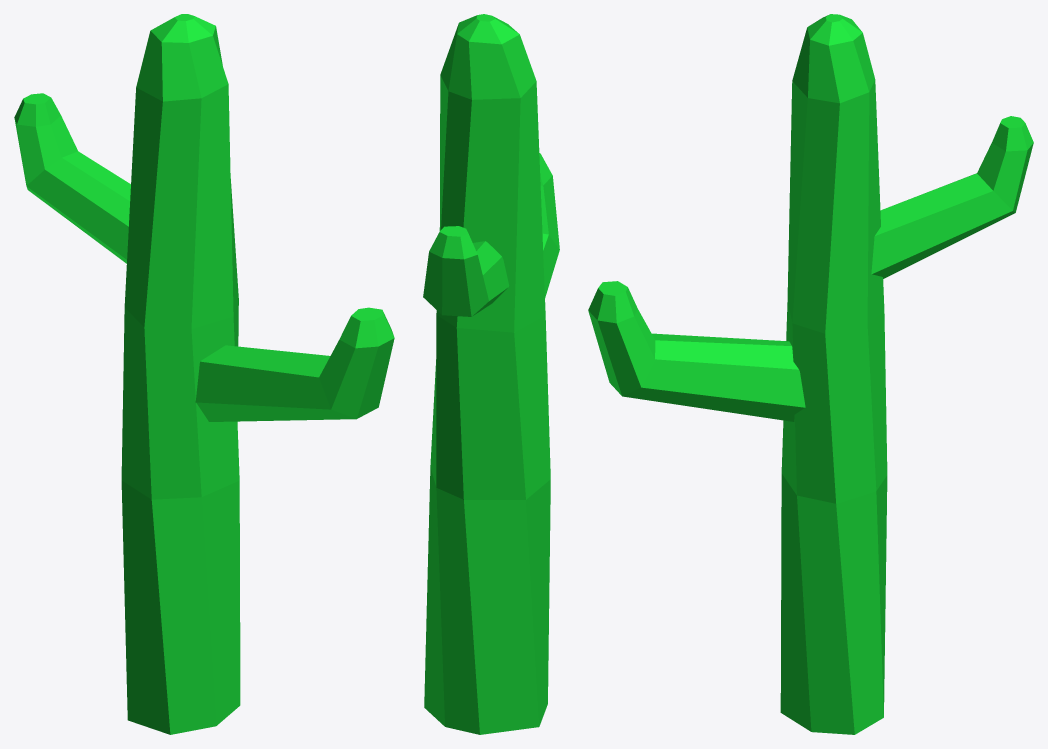
Rendered from cactus.glb.
3 views of the same model, side by side, from view 1: azimuth 30°, elevation 25°; view 2: azimuth 150°, elevation 25°; view 3: azimuth 270°, elevation 25° (orthographic).
Visible parts, largest first — view 1: Cactus1; view 2: Cactus1; view 3: Cactus1.
Part boxes in pixels (x1,y1,x2,y2): Cactus1: (14,14,394,734); Cactus1: (423,14,559,734); Cactus1: (588,14,1033,734).
Bounding box in the file's own units: 3.3 × 12.05 × 7.03.
